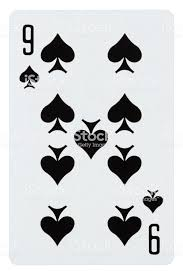nine of spades: (10, 9, 173, 268)
